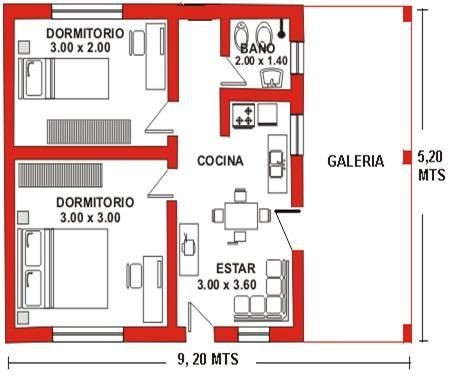door: (141, 101, 181, 134), (142, 169, 181, 199), (184, 295, 217, 328), (218, 55, 248, 87)
room: (3, 146, 180, 345), (2, 1, 183, 145), (177, 167, 304, 343), (220, 18, 306, 215)
wall: (2, 3, 18, 344), (121, 1, 305, 24), (3, 141, 169, 162), (164, 197, 181, 328), (289, 244, 307, 346), (166, 12, 184, 101), (220, 86, 290, 106), (123, 324, 188, 345), (2, 322, 54, 345), (288, 153, 307, 207), (2, 1, 52, 20), (287, 71, 307, 116), (266, 323, 306, 345), (217, 88, 233, 139), (213, 324, 243, 346), (217, 17, 232, 57), (166, 132, 181, 171), (289, 14, 304, 46)
window: (51, 322, 124, 346), (51, 3, 124, 20), (289, 116, 306, 155), (240, 323, 269, 345), (288, 41, 304, 73)
